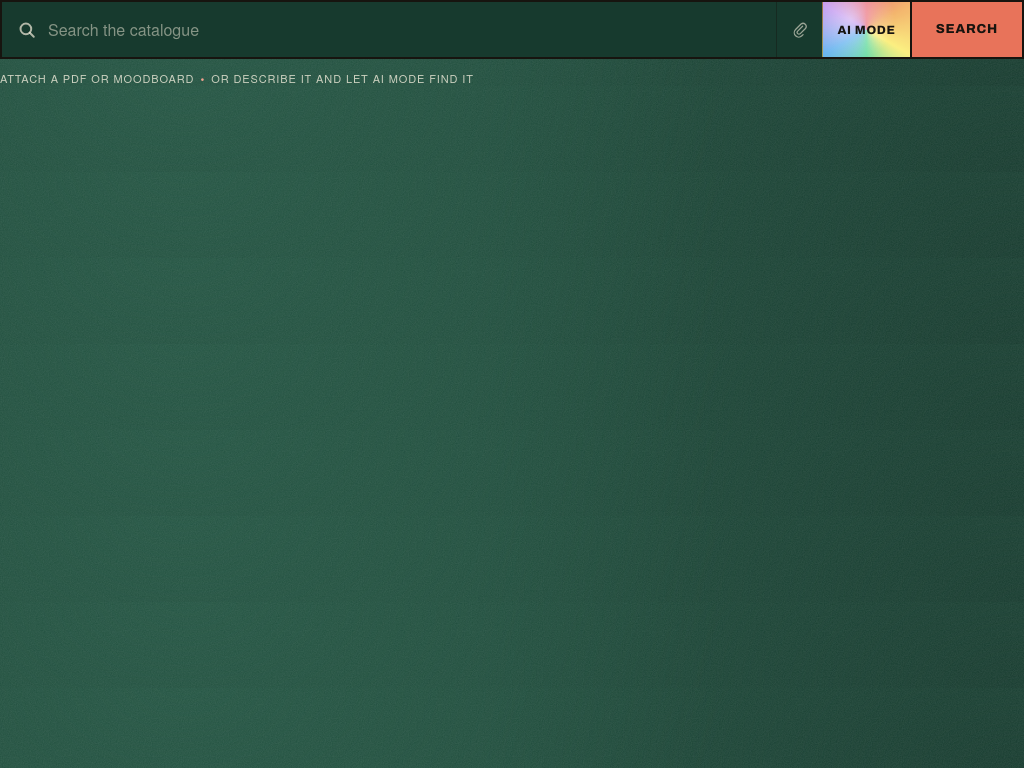
Test: HeroSearch › switches to AI mode, opens the dialog seeded with the query, and remembers the engine
The image size is (1024, 768).
In the search field labelled "Search the catalogue": {"x": 406, "y": 30} [48,2,764,57], type "moody bar"
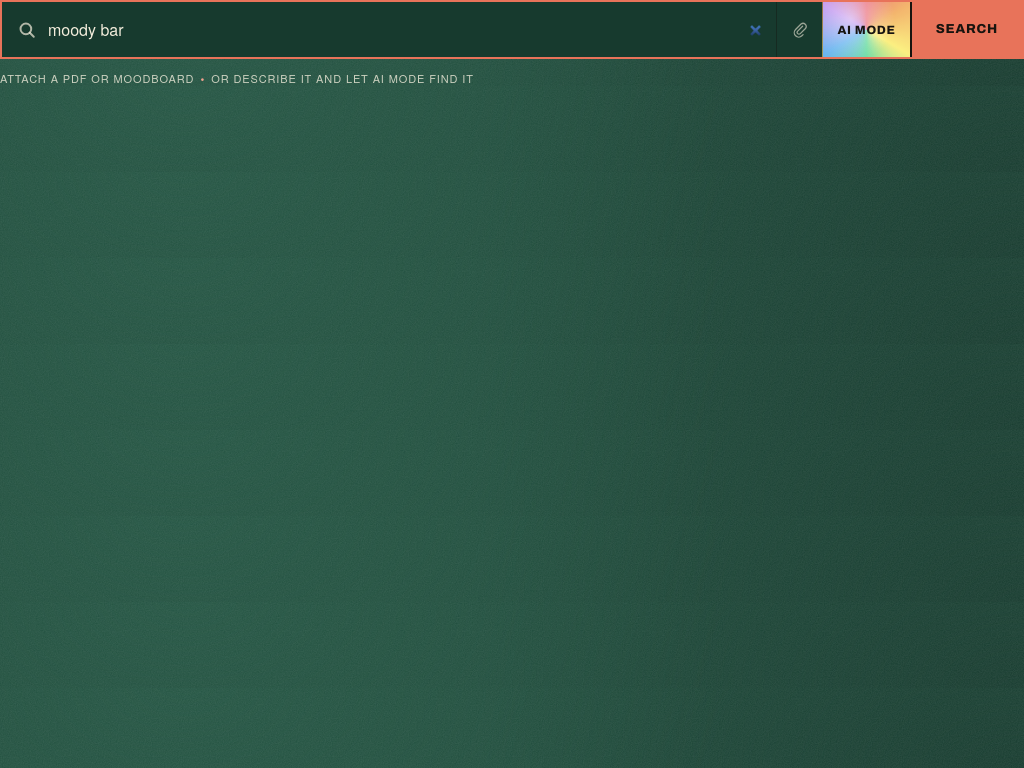
Click the button "AI Mode": {"x": 866, "y": 30} [822,2,910,57]
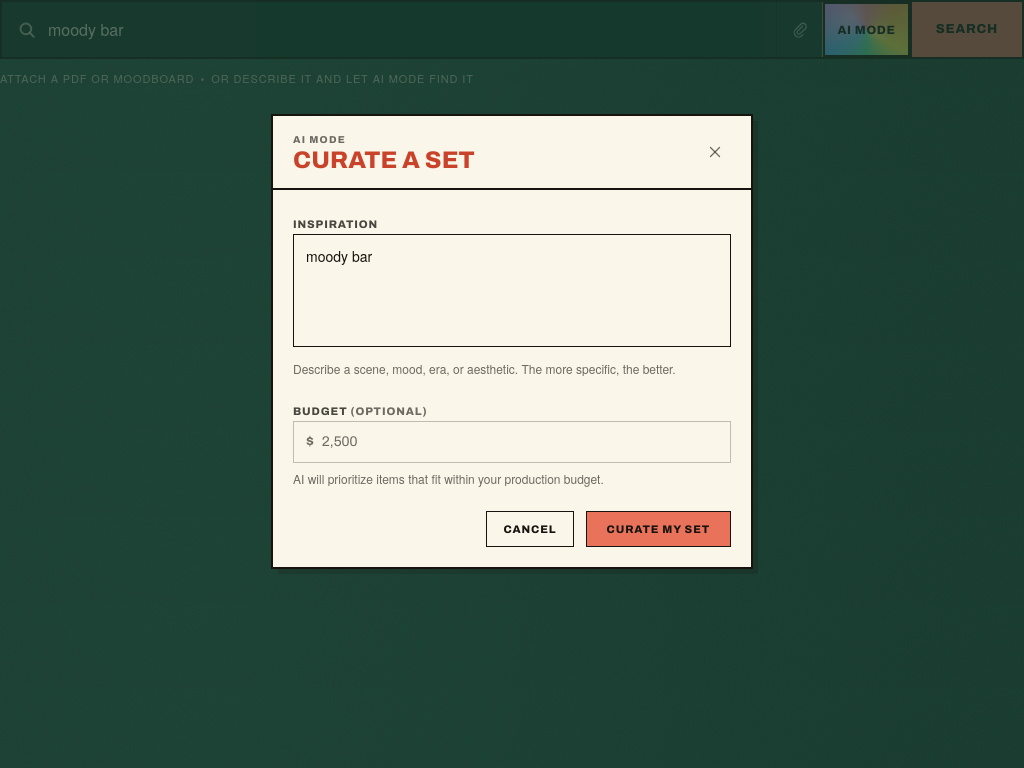
Expected: the dialog named "AI set curation" is shown, [256,115,768,568]
Expected: the text box labelled "Inspiration" holds "moody bar", [293,234,731,347]
